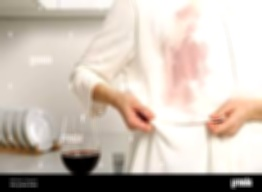wine: (159, 31, 208, 109), (174, 4, 203, 31)
